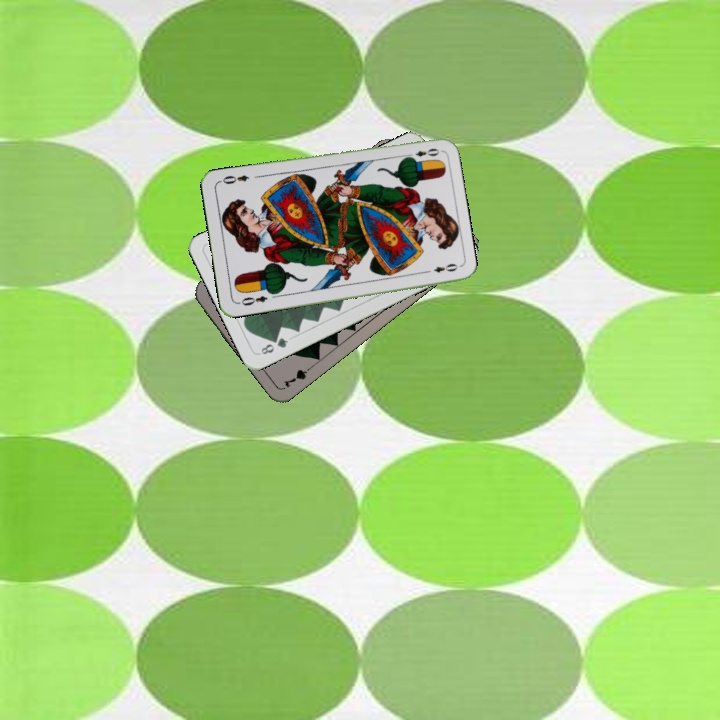EO: (402, 144, 442, 162), (237, 292, 270, 308)
G7: (279, 361, 316, 390)
G8: (257, 333, 291, 357)
